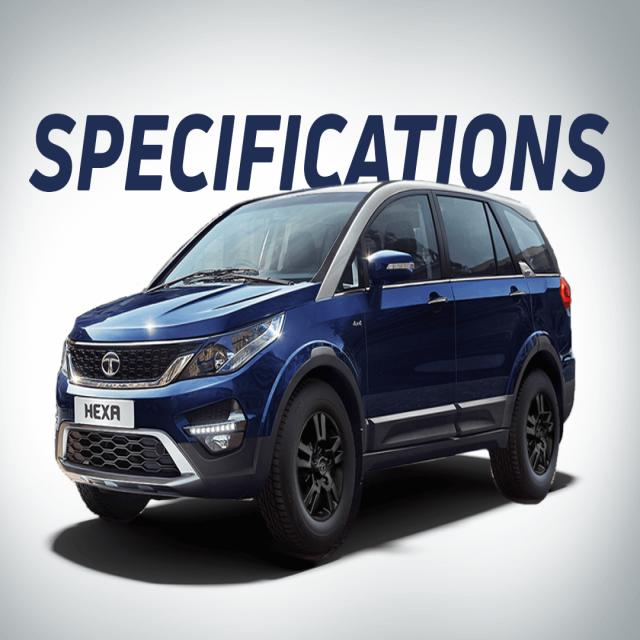Car: (52, 177, 584, 548)
